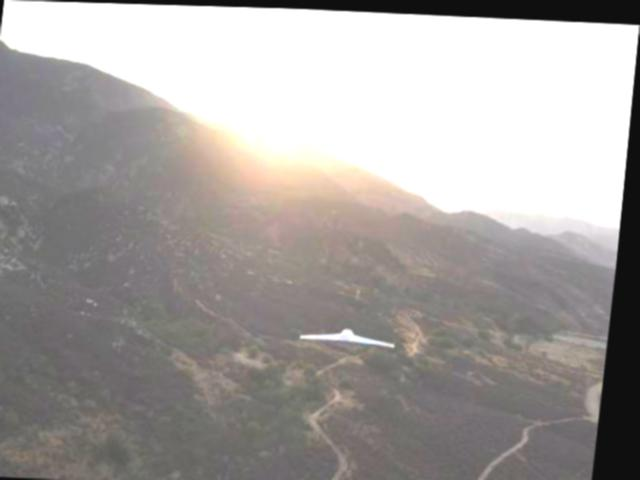iha: (305, 321, 404, 352)
